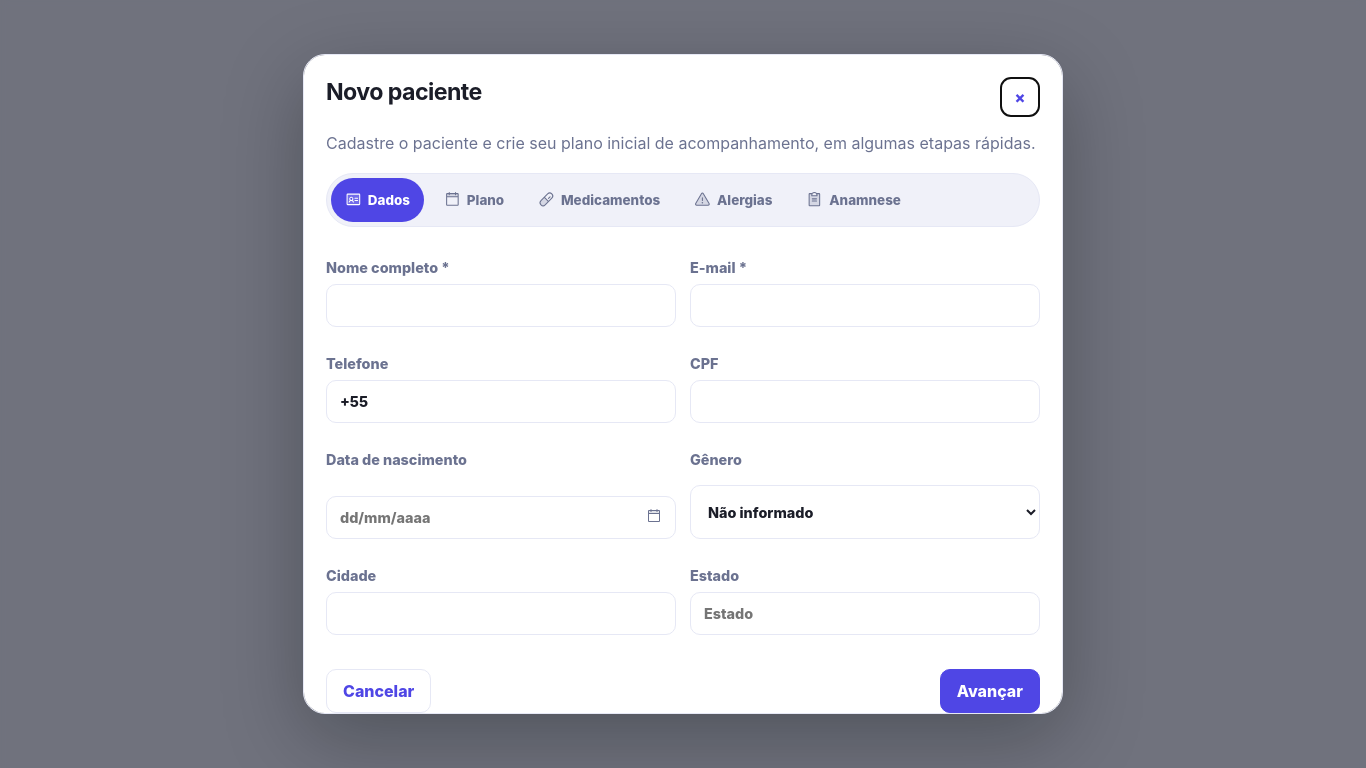
Test: cadastro profissional de pacientes › impede uma data final anterior à inicial
This screenshot has width=1366, height=768.
Type " Maria da Silva " into the field labelled "Nome completo *" at (501, 305), box [326,284,676,327]
Type "maria@example.com" into the field labelled "E-mail *" at (865, 305), box [690,284,1040,327]
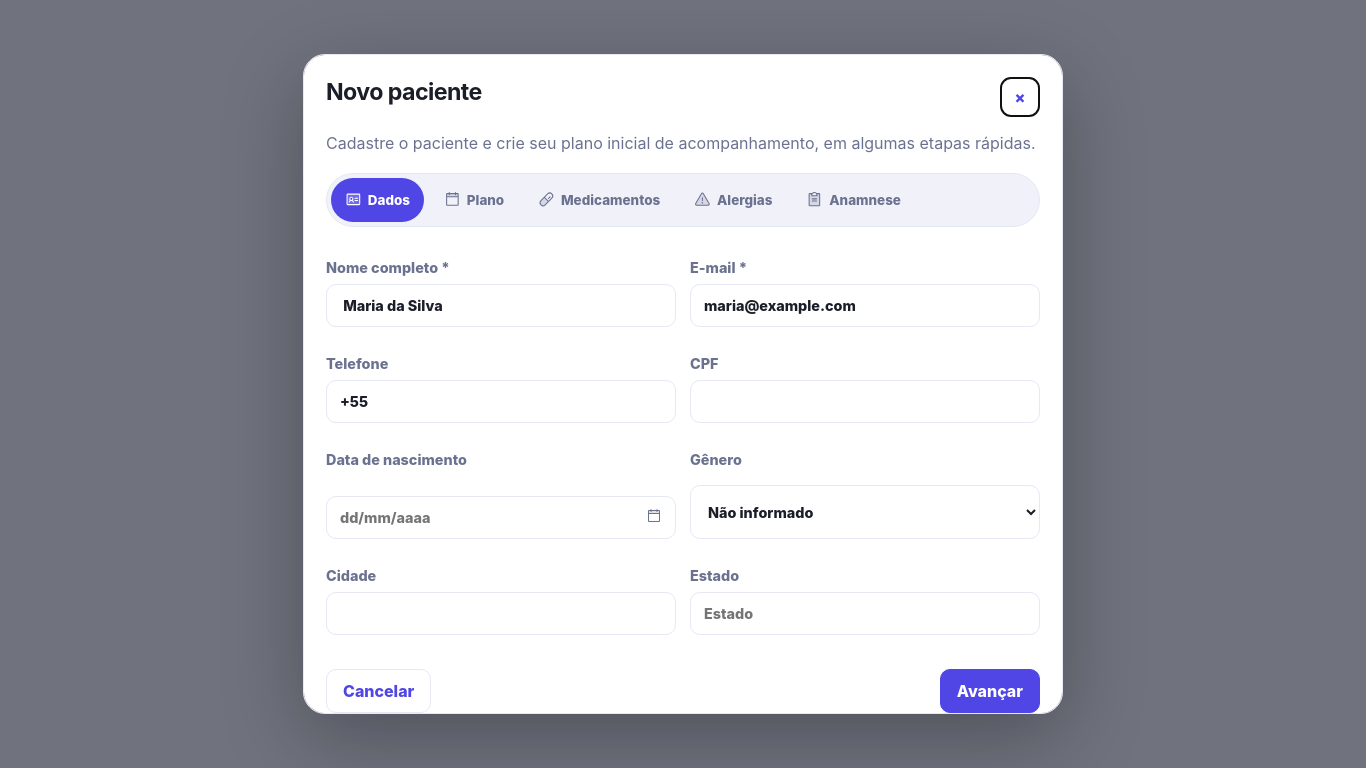
Click the button "Plano" at (474, 200), box [430,178,518,222]
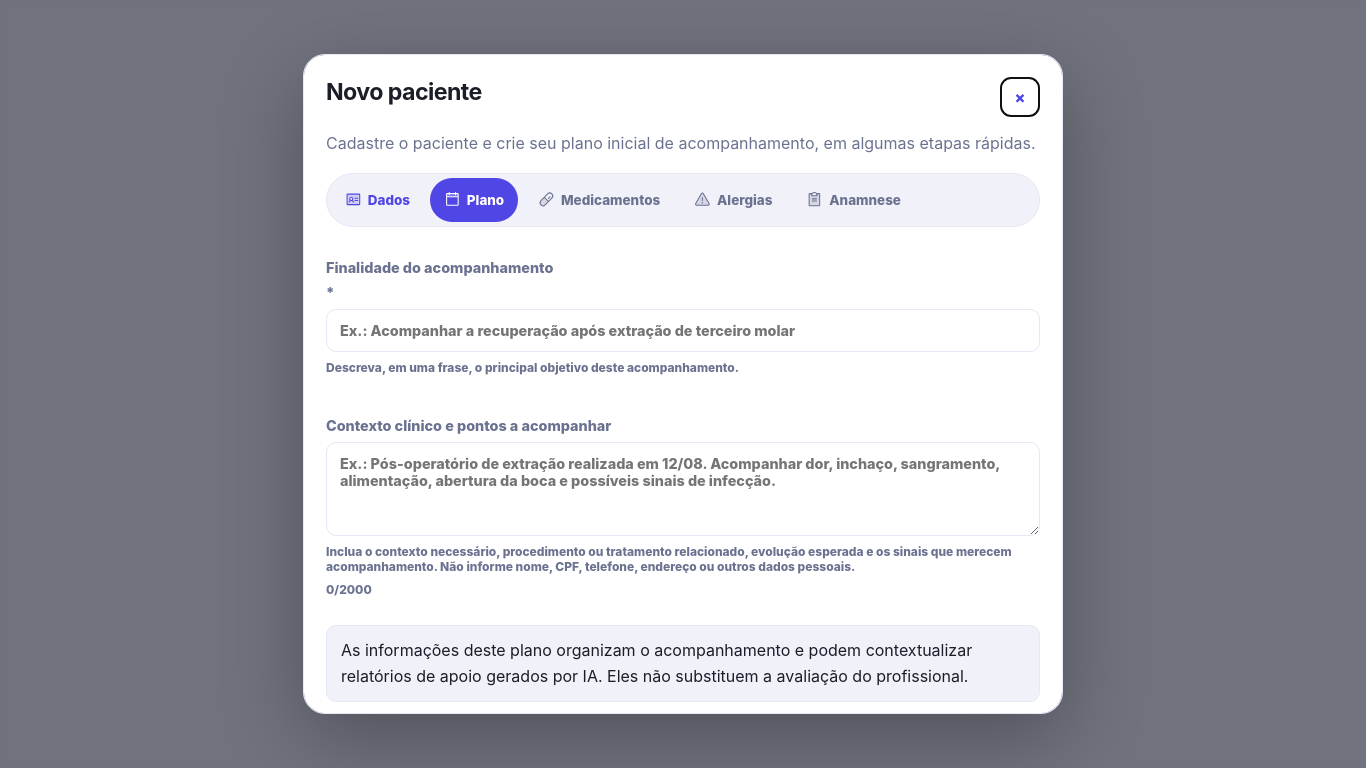
Replace the text in the field labelled "Finalidade do acompanhamento" with " Inicial " at (683, 330), box [326,309,1040,352]
(page scrolled)
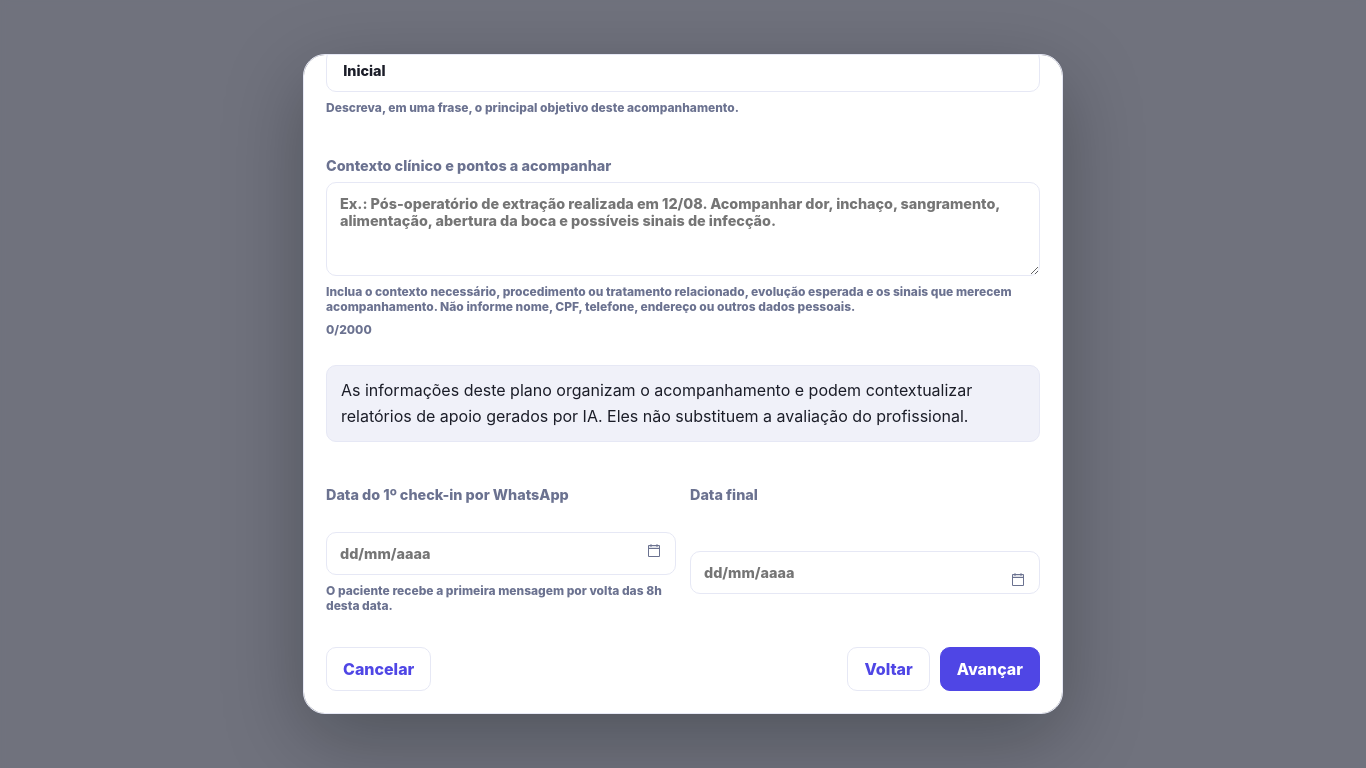
Type "13092026" into the field labelled "Data do 1º check-in" at (501, 553), box [326,532,676,575]
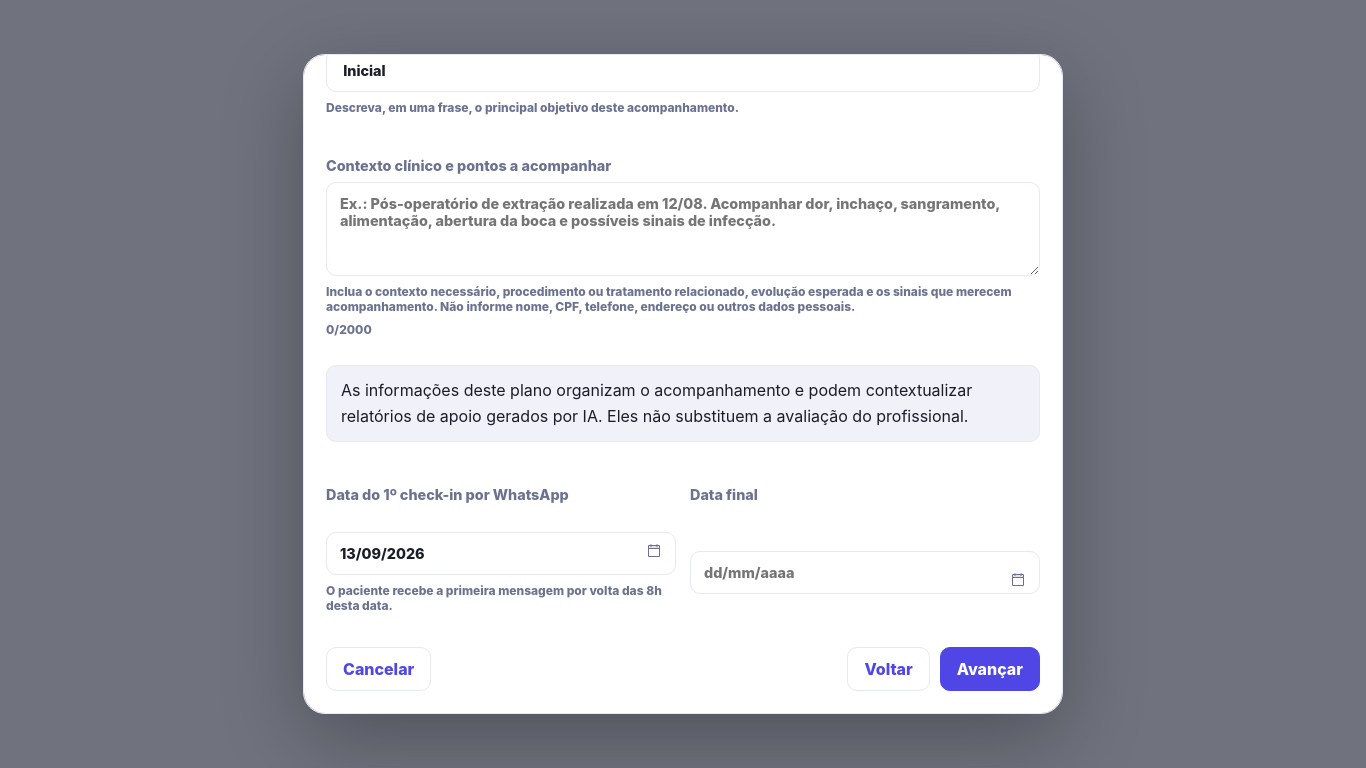
Type "13082026" into the field labelled "Data final" at (865, 572), box [690,551,1040,594]
(page scrolled)
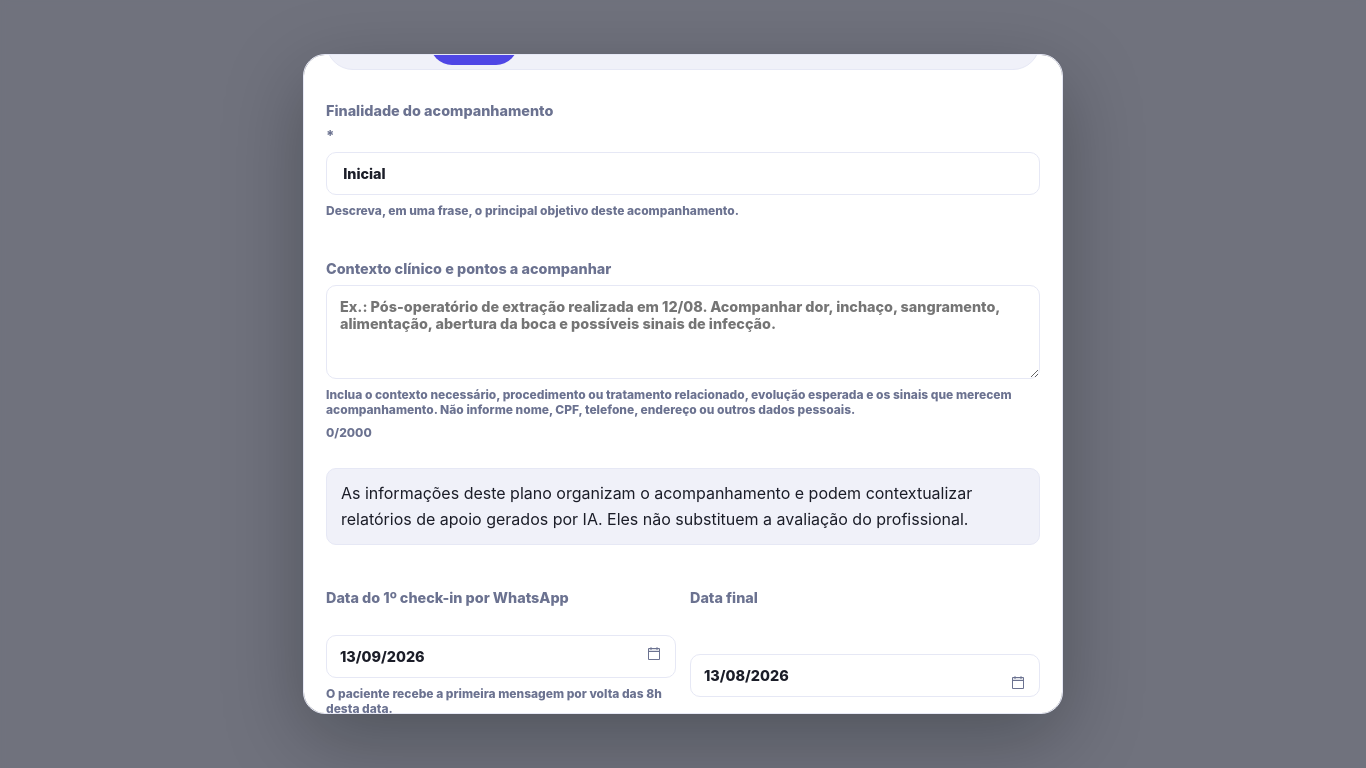
Submit the form
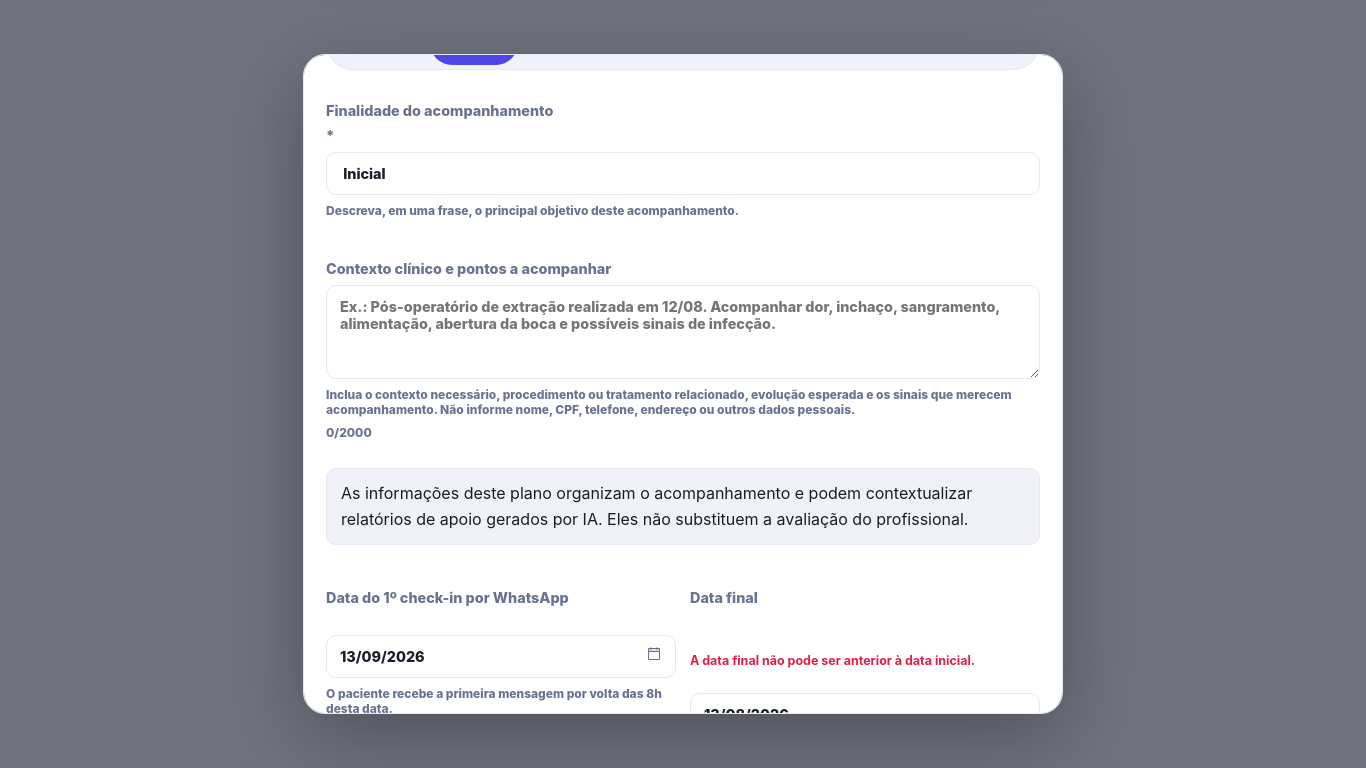
Check: the text "A data final não pode ser anterior à data inicial." is shown, box [690,653,975,668]
